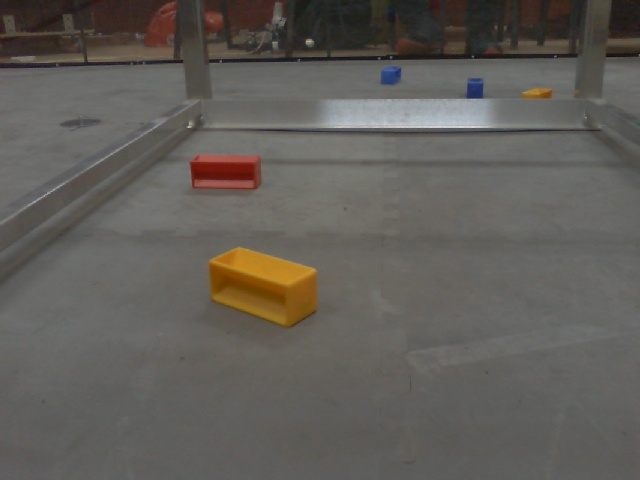BlueSample: (463, 76, 488, 99), (380, 64, 402, 85)
RedSample: (188, 154, 262, 191)
YellowSample: (205, 244, 321, 329), (522, 84, 553, 101)
